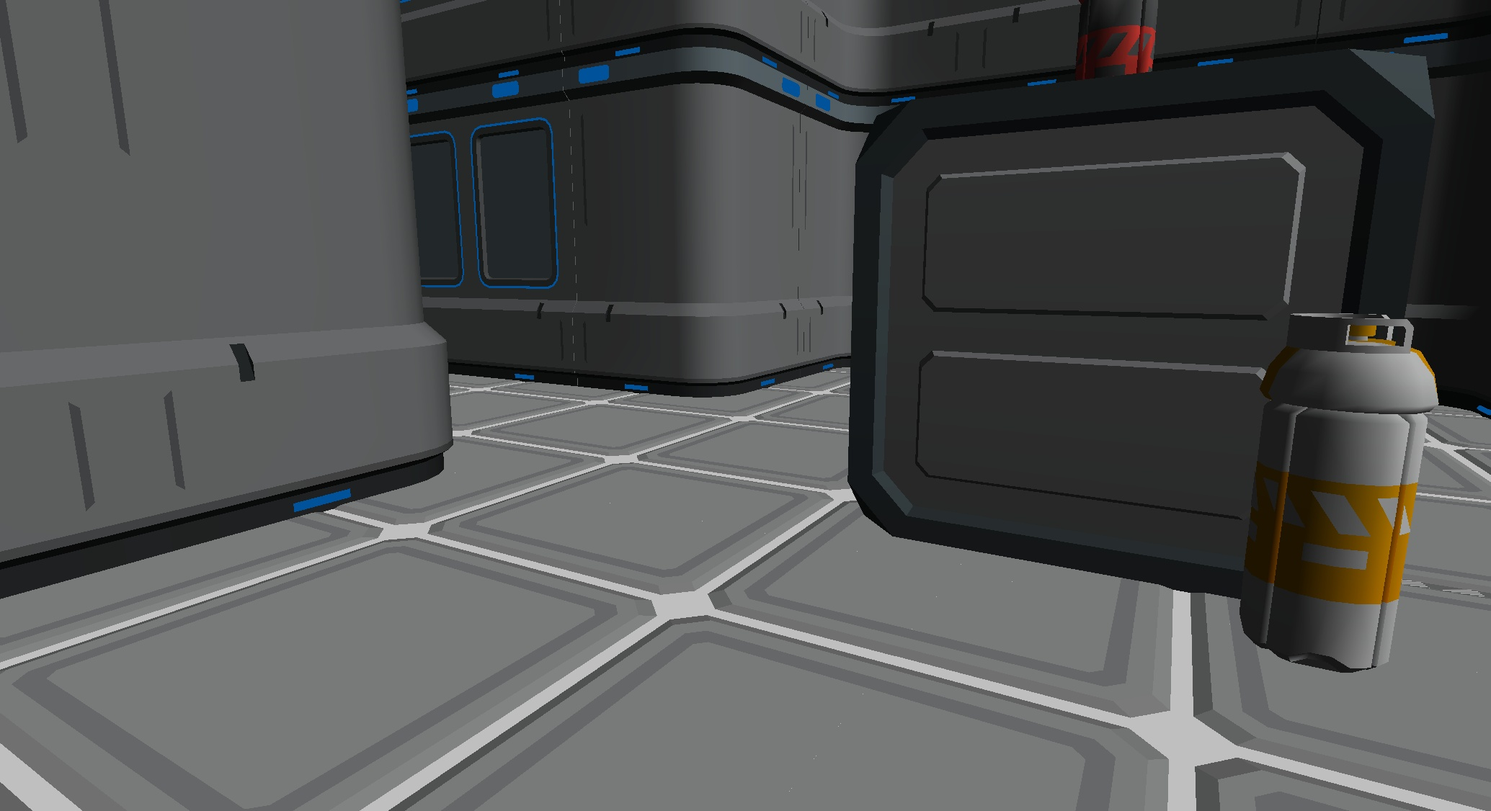red_barrel: (1075, 0, 1159, 79)
yellow_barrel: (1240, 314, 1437, 670)
